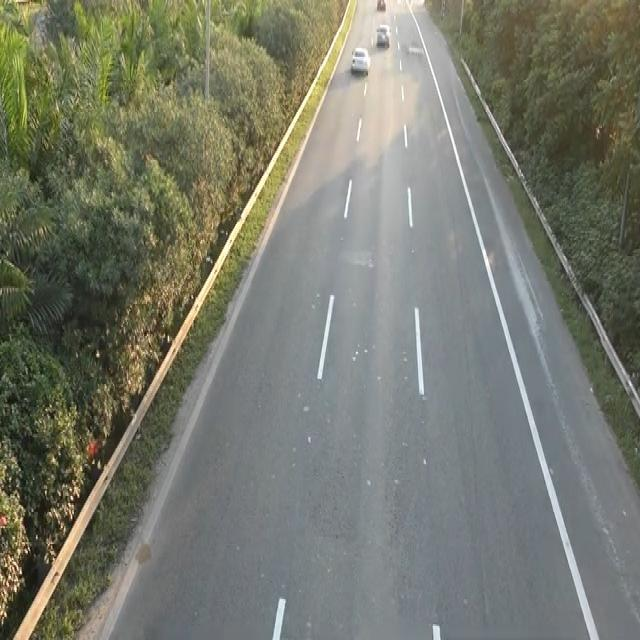bus: (348, 42, 374, 82), (374, 21, 391, 48)
